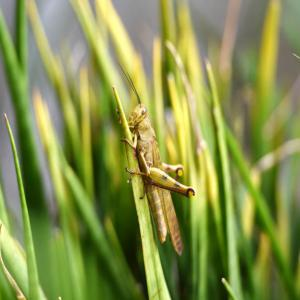locust: (111, 53, 201, 268)
